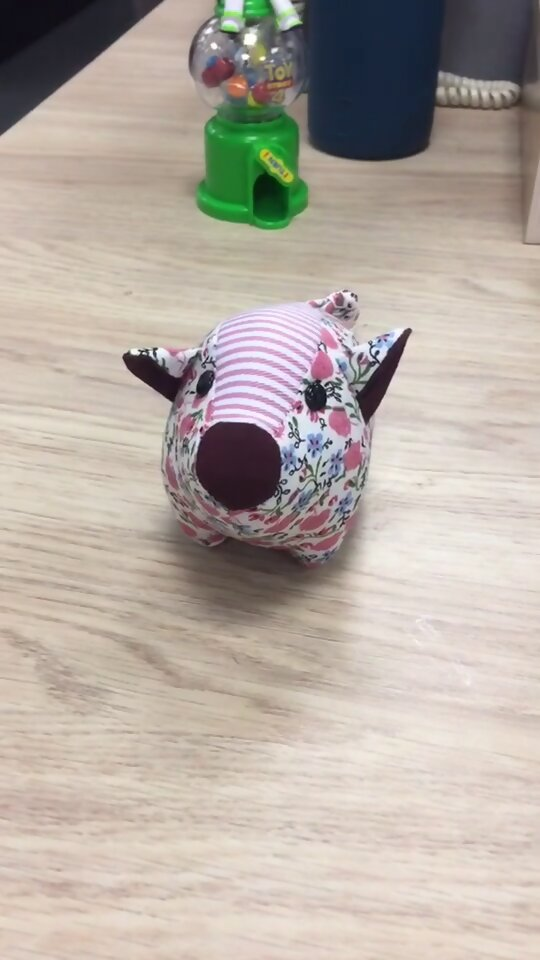pig: (121, 285, 416, 575)
